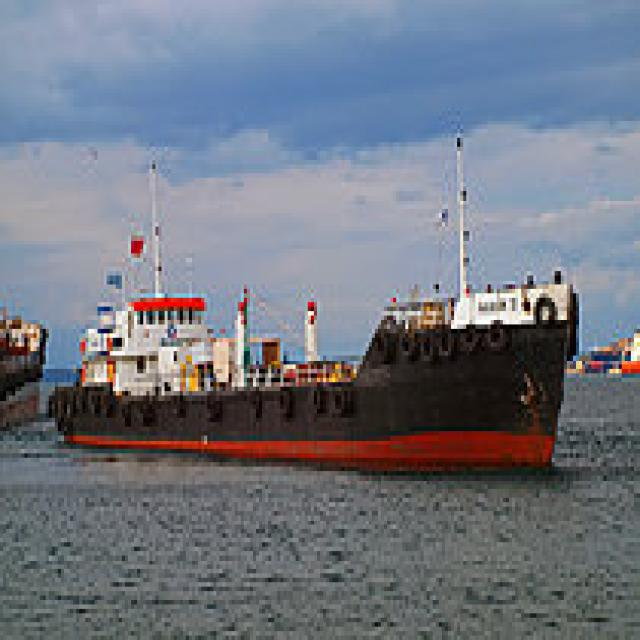Tanker: (46, 124, 573, 476)
